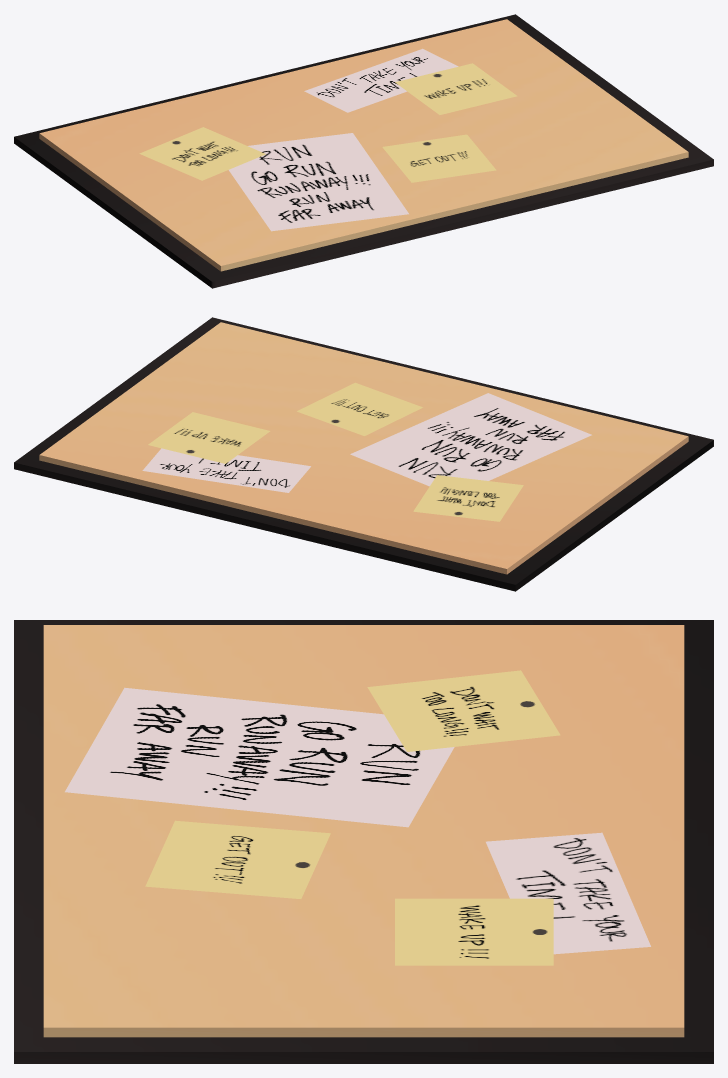
File: Bulletein.fbx
3 renders of one model, top to bottom at view 1: azimuth 30°, elevation 25°; view 2: azimuth 150°, elevation 25°; view 3: azimuth 270°, elevation 25°, orthographic. The views are drawn at different scales.
Visible parts, largest first — view 1: board, frame, paper, paper.001, note 1, note 2, note 3; view 2: board, frame, paper, paper.001, note 3, note 2, note 1; view 3: board, frame, paper, paper.001, note 2, note 3, note 1.
Part boxes in pixels (box(x1,y1,x2,y2)): board: box(39, 19, 688, 271); frame: box(14, 14, 713, 288); paper: box(229, 133, 408, 231); paper.001: box(304, 48, 458, 112); note 1: box(139, 127, 265, 180); note 2: box(395, 63, 517, 114); note 3: box(382, 134, 496, 182); board: box(39, 322, 688, 574); frame: box(14, 317, 713, 591); paper: box(350, 393, 591, 486); paper.001: box(142, 448, 310, 492); note 3: box(297, 382, 422, 435); note 2: box(148, 412, 270, 463); note 1: box(413, 475, 523, 521); board: box(43, 625, 684, 1037); frame: box(14, 620, 713, 1063); paper: box(65, 687, 454, 827); paper.001: box(486, 832, 650, 954); note 2: box(395, 898, 553, 965); note 3: box(145, 820, 330, 898); note 1: box(367, 670, 560, 751).
Bounding box in the file's own units: 486 × 11.64 × 333.
Materials: 7 (7 with a texture image).
